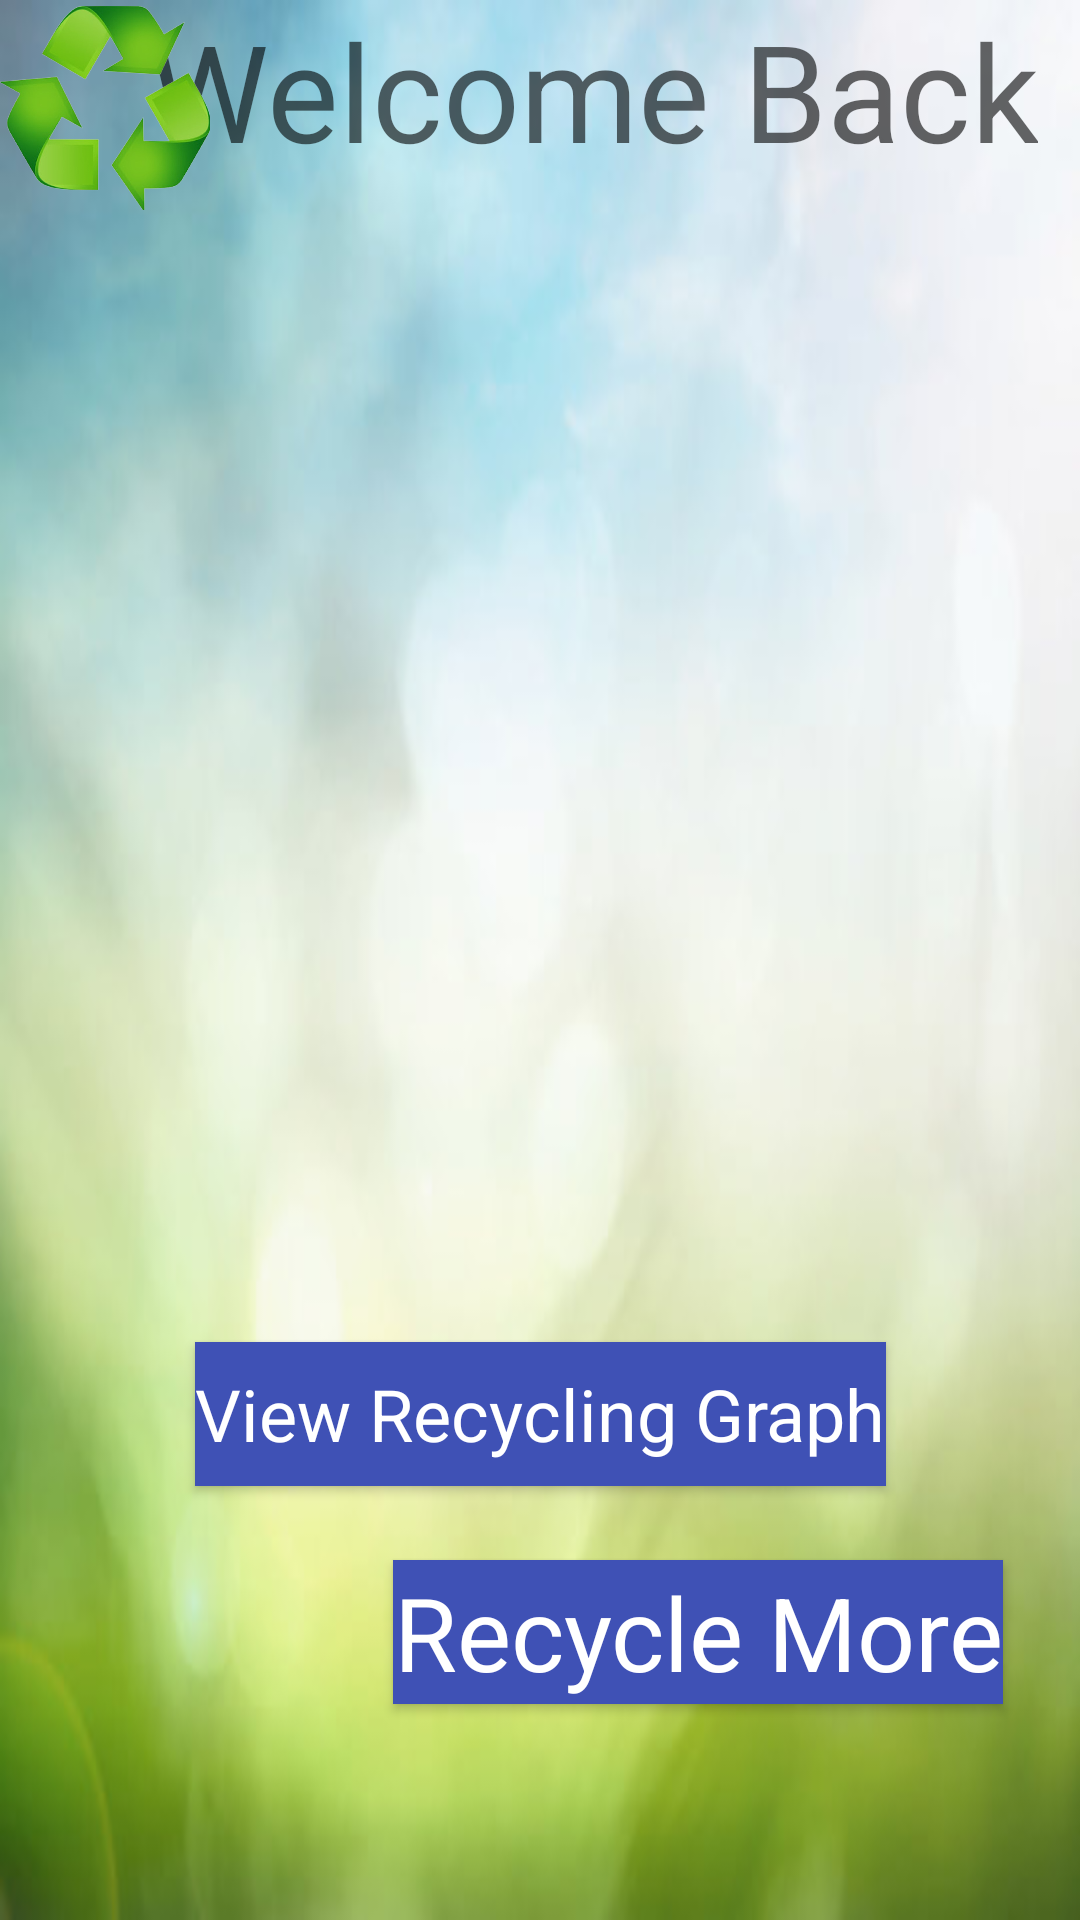

Screen size 1080 x 1920. Icon name, then its box in pixels as (x1, y1, x2, y2):
recyclingsymbol: (0, 0, 210, 216)
